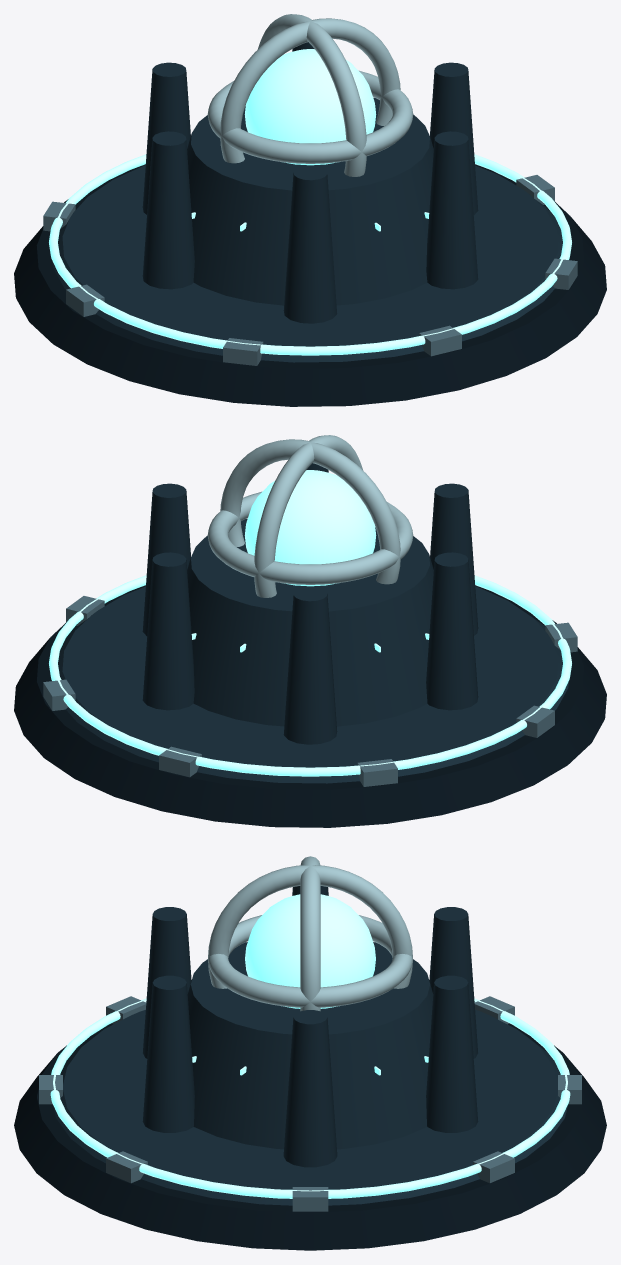
The model's file is fusionReactor.glb.
3 views of the same model, one above another, from view 1: azimuth 30°, elevation 25°; view 2: azimuth 150°, elevation 25°; view 3: azimuth 270°, elevation 25° (orthographic).
Visible parts, largest first — view 1: upper-deck, armored-foundation, containment-vault, fusion-core, perimeter-light, coolant-tower-2, coolant-tower-3, coolant-tower-1, containment-ring-x, containment-ring-y, containment-ring-z, coolant-tower-4 (+7 smaller); view 2: upper-deck, armored-foundation, containment-vault, fusion-core, perimeter-light, coolant-tower-4, coolant-tower-3, coolant-tower-5, containment-ring-x, containment-ring-y, containment-ring-z, coolant-tower-2 (+7 smaller); view 3: upper-deck, armored-foundation, containment-vault, fusion-core, perimeter-light, coolant-tower-0, coolant-tower-1, coolant-tower-5, containment-ring-z, containment-ring-y, coolant-tower-2, coolant-tower-4 (+8 smaller).
Boxes of the visible parts, left/top/right/bottom form: upper-deck: left=52, top=165, right=569, bottom=362; armored-foundation: left=14, top=164, right=606, bottom=406; containment-vault: left=187, top=97, right=433, bottom=305; fusion-core: left=244, top=49, right=376, bottom=165; perimeter-light: left=49, top=154, right=571, bottom=355; coolant-tower-2: left=283, top=166, right=337, bottom=323; coolant-tower-3: left=142, top=131, right=194, bottom=289; coolant-tower-1: left=426, top=131, right=478, bottom=289; containment-ring-x: left=220, top=18, right=400, bottom=163; containment-ring-y: left=207, top=70, right=413, bottom=163; containment-ring-z: left=257, top=14, right=366, bottom=176; coolant-tower-4: left=142, top=62, right=190, bottom=214; upper-deck: left=51, top=586, right=568, bottom=783; armored-foundation: left=14, top=585, right=606, bottom=827; containment-vault: left=187, top=518, right=433, bottom=726; fusion-core: left=244, top=470, right=376, bottom=586; perimeter-light: left=49, top=575, right=571, bottom=776; coolant-tower-4: left=283, top=587, right=337, bottom=744; coolant-tower-3: left=426, top=552, right=478, bottom=710; coolant-tower-5: left=142, top=552, right=194, bottom=710; containment-ring-x: left=220, top=439, right=400, bottom=584; containment-ring-y: left=207, top=491, right=413, bottom=584; containment-ring-z: left=254, top=435, right=363, bottom=597; coolant-tower-2: left=430, top=483, right=478, bottom=635; upper-deck: left=53, top=1009, right=567, bottom=1205; armored-foundation: left=14, top=1023, right=606, bottom=1250; containment-vault: left=187, top=942, right=433, bottom=1149; fusion-core: left=245, top=894, right=375, bottom=1008; perimeter-light: left=50, top=998, right=570, bottom=1198; coolant-tower-0: left=283, top=1010, right=337, bottom=1167; coolant-tower-1: left=142, top=975, right=194, bottom=1132; coolant-tower-5: left=426, top=975, right=478, bottom=1132; containment-ring-z: left=208, top=865, right=412, bottom=988; containment-ring-y: left=208, top=915, right=412, bottom=1007; coolant-tower-2: left=143, top=907, right=191, bottom=1058; coolant-tower-4: left=429, top=907, right=477, bottom=1058.
Size of the model in its own units: 10.4 by 5.02 by 10.4.
